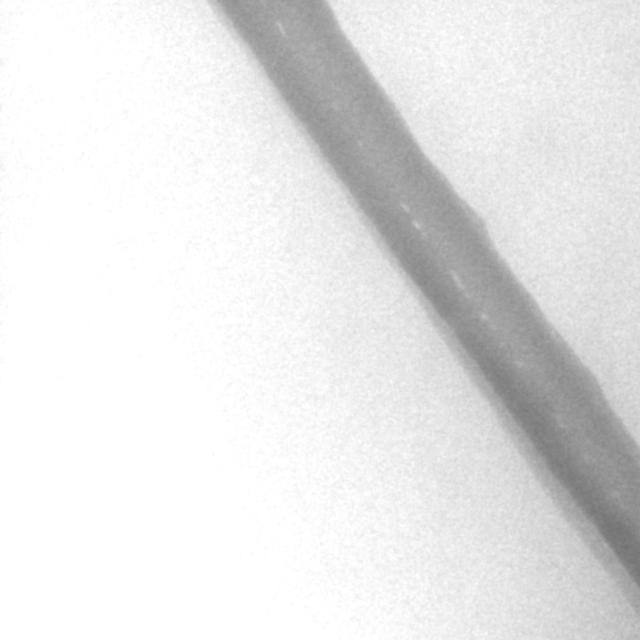air hole: (275, 20, 286, 39), (411, 218, 423, 235), (478, 308, 490, 325), (399, 200, 410, 215)
